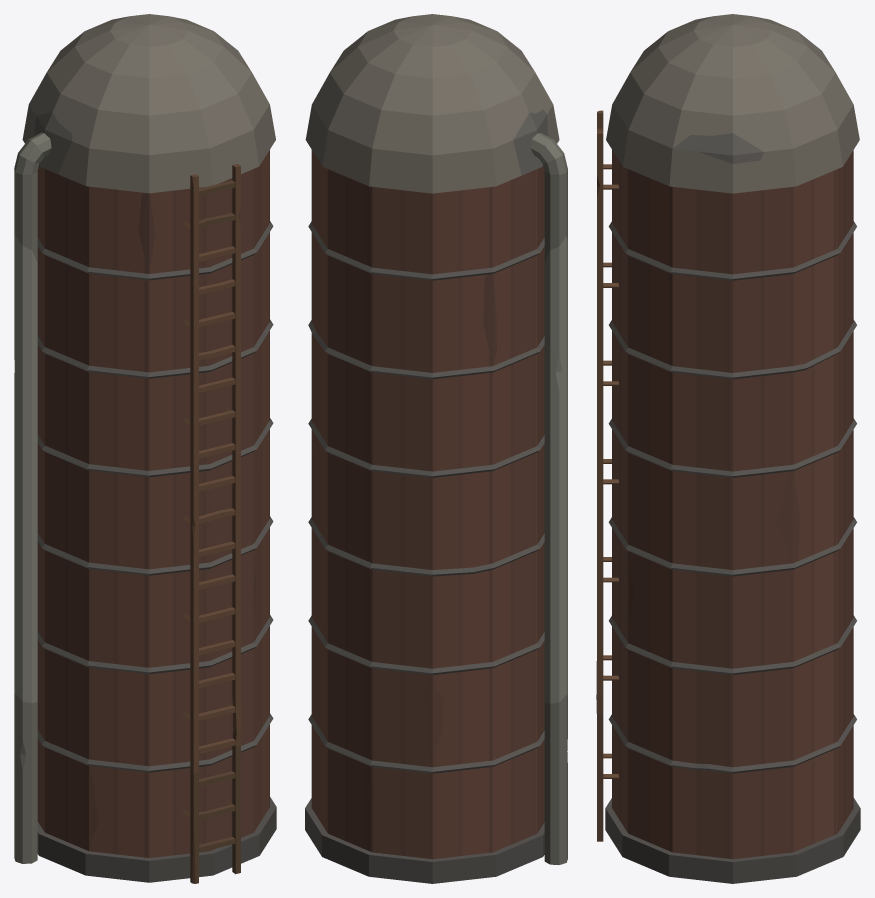
The model's file is SM_Props_Farm_Silo_Big.fbx.
3 renders of one model, left to right at view 1: azimuth 30°, elevation 25°; view 2: azimuth 150°, elevation 25°; view 3: azimuth 270°, elevation 25°, orthographic.
Visible parts, largest first — view 1: SM_Props_Farm_Silo_Big; view 2: SM_Props_Farm_Silo_Big; view 3: SM_Props_Farm_Silo_Big.
Part boxes in pixels (box(x1,y1,x2,y2)): SM_Props_Farm_Silo_Big: box(14, 14, 276, 883); SM_Props_Farm_Silo_Big: box(305, 14, 567, 883); SM_Props_Farm_Silo_Big: box(596, 14, 860, 883).
Size of the model in its own units: 234 by 735 by 218.
